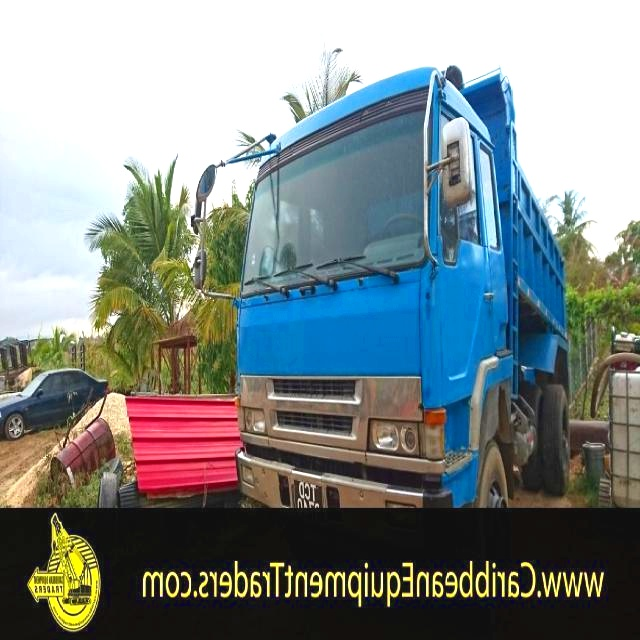car: (0, 354, 110, 462)
truck: (153, 44, 588, 537)
